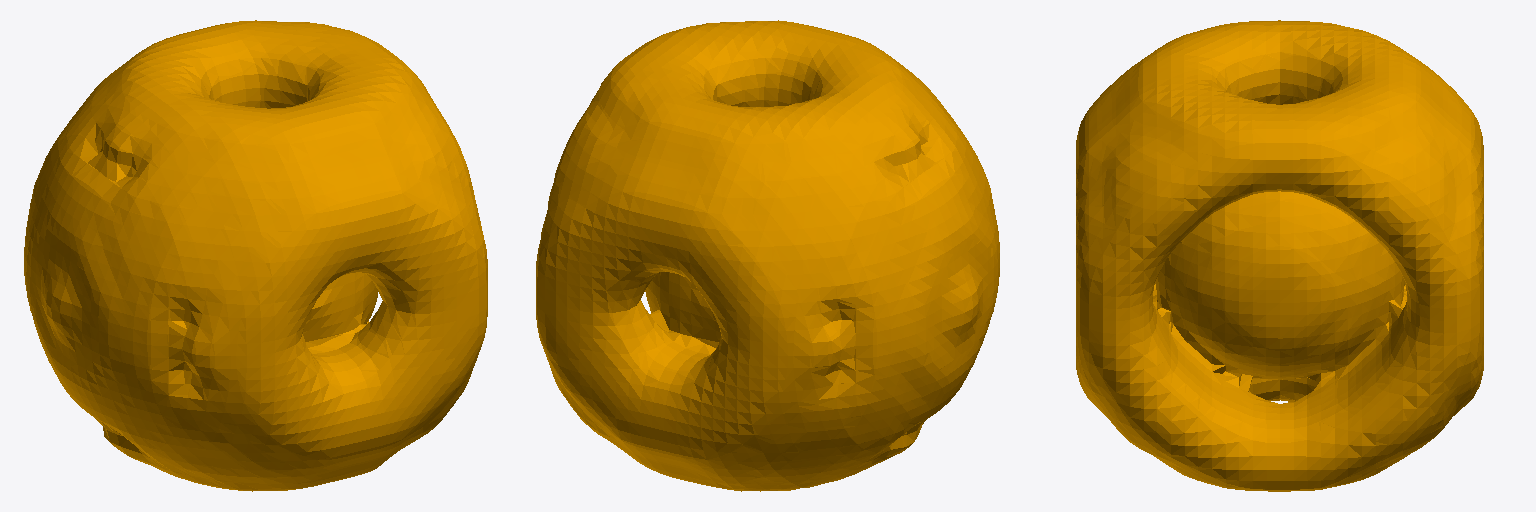
URDF robot description (object):
<?xml version="1.0"?>
<robot name="object">
  <link name="object">
    <visual>
      <origin xyz="0 0 0"/>
      <geometry>
        <mesh filename="meshes/subset_100_scaled/egad_C13_0_s.obj" scale=".03 .03 .03"/>
      </geometry>
    </visual>
    <collision>
  <origin xyz="0 0 0"/>
  <geometry>
    <mesh filename="meshes/subset_100_scaled/egad_C13_0_s_0decompose.obj" scale=".03 .03 .03"/>
<!--          <mesh filename="meshes/custom/obj0_ball.obj" scale=".05 .05 .05"/>-->
  </geometry>
</collision><collision>
  <origin xyz="0 0 0"/>
  <geometry>
    <mesh filename="meshes/subset_100_scaled/egad_C13_0_s_1decompose.obj" scale=".03 .03 .03"/>
<!--          <mesh filename="meshes/custom/obj0_ball.obj" scale=".05 .05 .05"/>-->
  </geometry>
</collision>

<!--    <collision>-->
<!--      <origin xyz="0 0 0"/>-->
<!--      <geometry>-->
<!--        <mesh filename="meshes/subset_100_scaled/egad_C13_0_s.obj" scale=".03 .03 .03"/>-->
<!--&lt;!&ndash;          <mesh filename="meshes/custom/obj0_ball.obj" scale=".05 .05 .05"/>&ndash;&gt;-->
<!--      </geometry>-->
<!--    </collision>-->
    <inertial>
      <density value="1000.0"/>
    </inertial>
  </link>
</robot>

--- Render facts (derived) ---
The picture shows the robot from 3 angles, left to right: view 1: azimuth 30°, elevation 25°; view 2: azimuth 150°, elevation 25°; view 3: azimuth 270°, elevation 25°; orthographic projection.
Robot: object — 1 links, 0 joints (none); root link object; default pose: every joint at zero.
Links seen in each view (by area): view 1: object; view 2: object; view 3: object.
Link boxes in pixels (x1,y1,x2,y2): object: [24, 20, 487, 491]; object: [536, 20, 999, 491]; object: [1076, 20, 1483, 491].
Bounding box of the posed robot: 0.06 × 0.06 × 0.06 m (x, y, z).
Meshes: 1 distinct files referenced, 1 mesh visuals loaded (1 OBJ).
